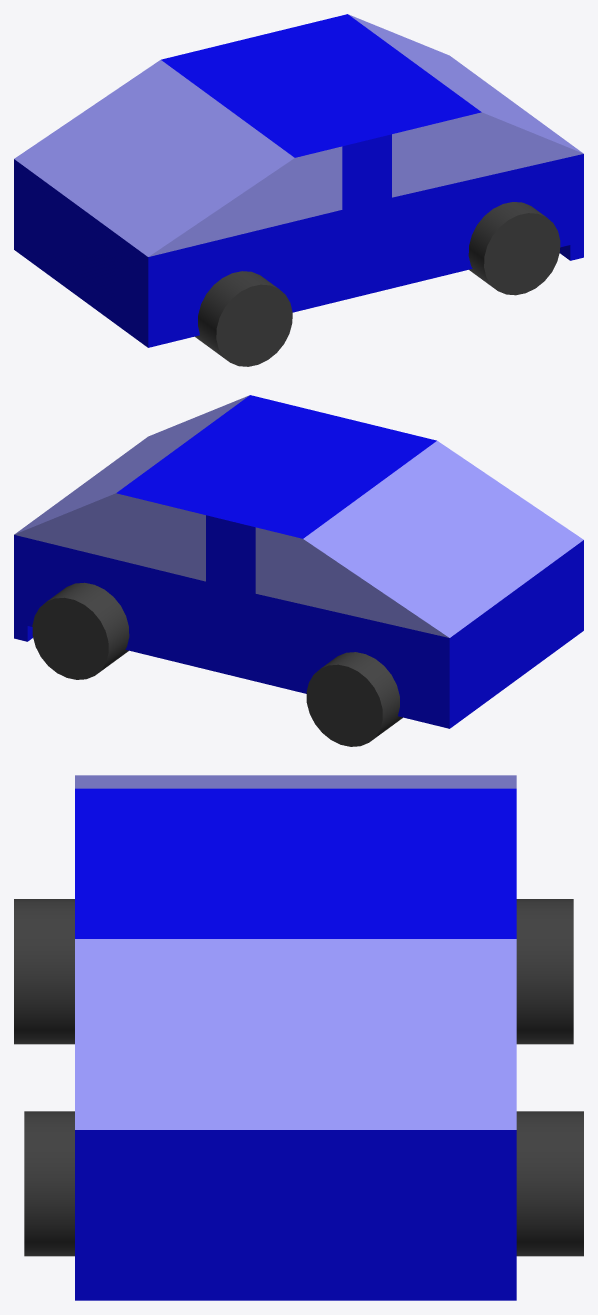
File: Car.fbx
The picture shows the model from 3 angles, top to bottom: view 1: azimuth 30°, elevation 25°; view 2: azimuth 150°, elevation 25°; view 3: azimuth 270°, elevation 25°; orthographic projection. The views are drawn at different scales.
Parts seen in each view (by area): view 1: Better_Car1; view 2: Better_Car1; view 3: Better_Car1.
Part boxes in pixels (x1,y1,x2,y2): Better_Car1: [14, 14, 583, 366]; Better_Car1: [14, 395, 583, 746]; Better_Car1: [14, 775, 583, 1300].
Size of the model in its own units: 300 by 118 by 207.
